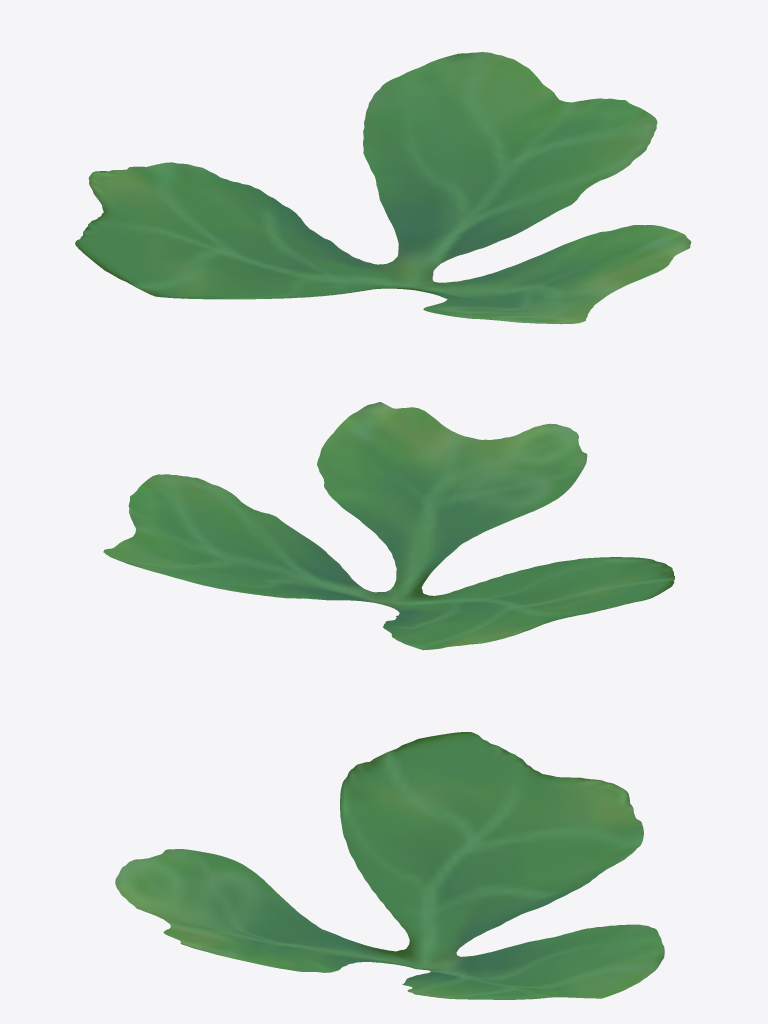
The model's file is SM_Ground_Clover_B.fbx.
3 views of the same model, one above another, from view 1: azimuth 30°, elevation 25°; view 2: azimuth 150°, elevation 25°; view 3: azimuth 270°, elevation 25° (orthographic). The views are drawn at different scales.
Visible parts, largest first — view 1: SM_Ground_Clover_B; view 2: SM_Ground_Clover_B; view 3: SM_Ground_Clover_B.
Part boxes in pixels (x1,y1,x2,y2): SM_Ground_Clover_B: [75, 52, 691, 324]; SM_Ground_Clover_B: [103, 402, 674, 650]; SM_Ground_Clover_B: [115, 732, 664, 999].
Size of the model in its own units: 15.25 by 15.53 by 2.24.
1 material, 1 textured.
